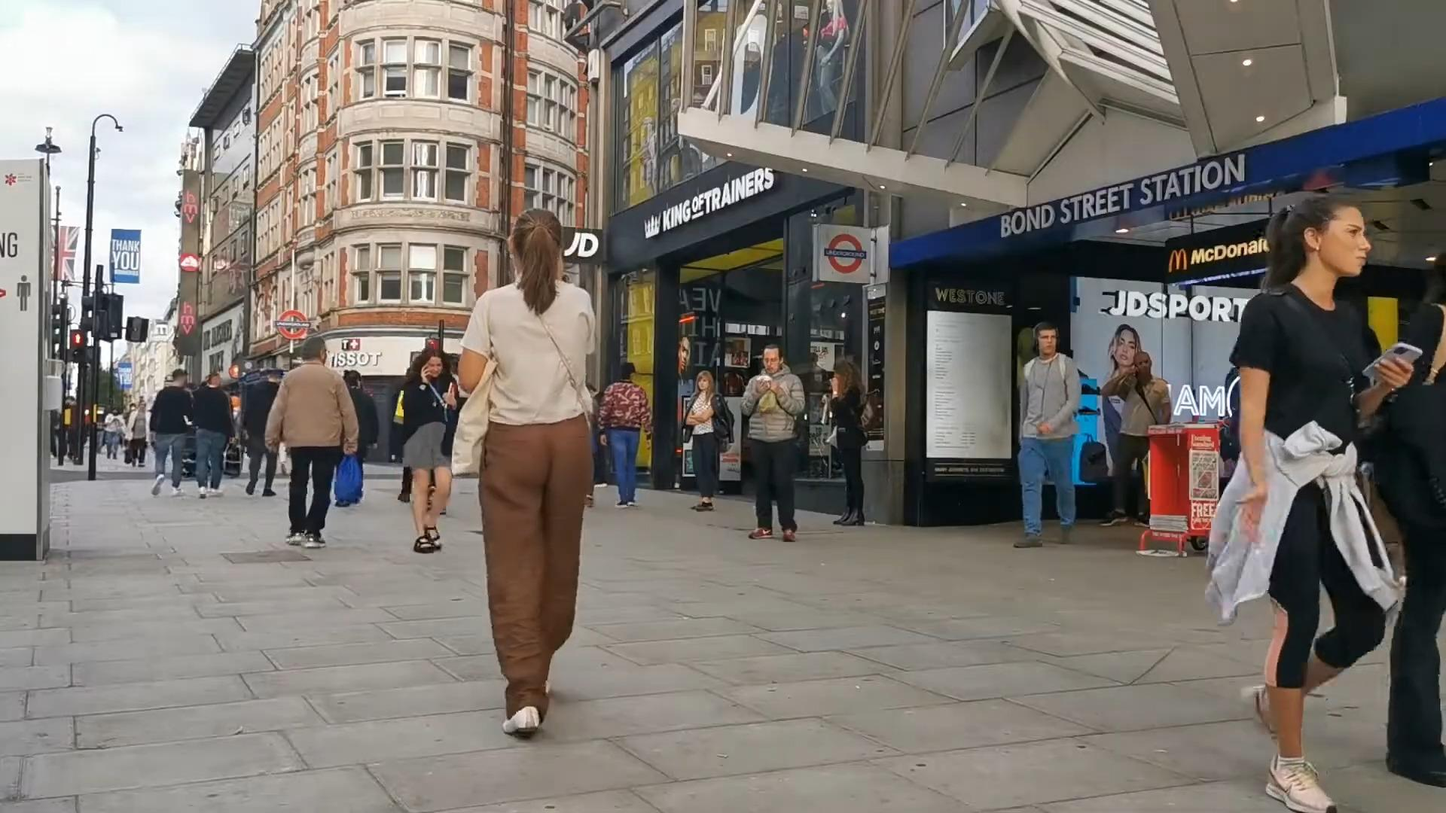no-helmet: (1260, 196, 1371, 288), (506, 208, 564, 317), (833, 359, 862, 402), (413, 349, 451, 380), (1032, 321, 1061, 357), (301, 336, 330, 367), (762, 344, 784, 376), (695, 370, 715, 404), (1133, 351, 1152, 375)
